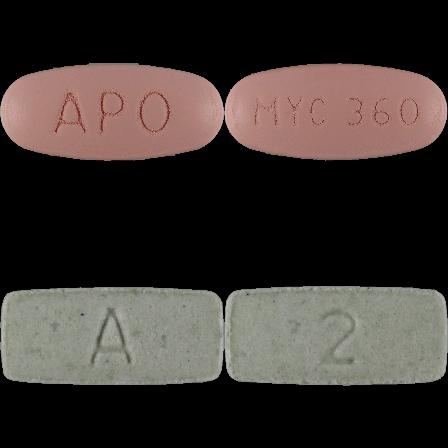60505-2966: (0, 0, 224, 224)
